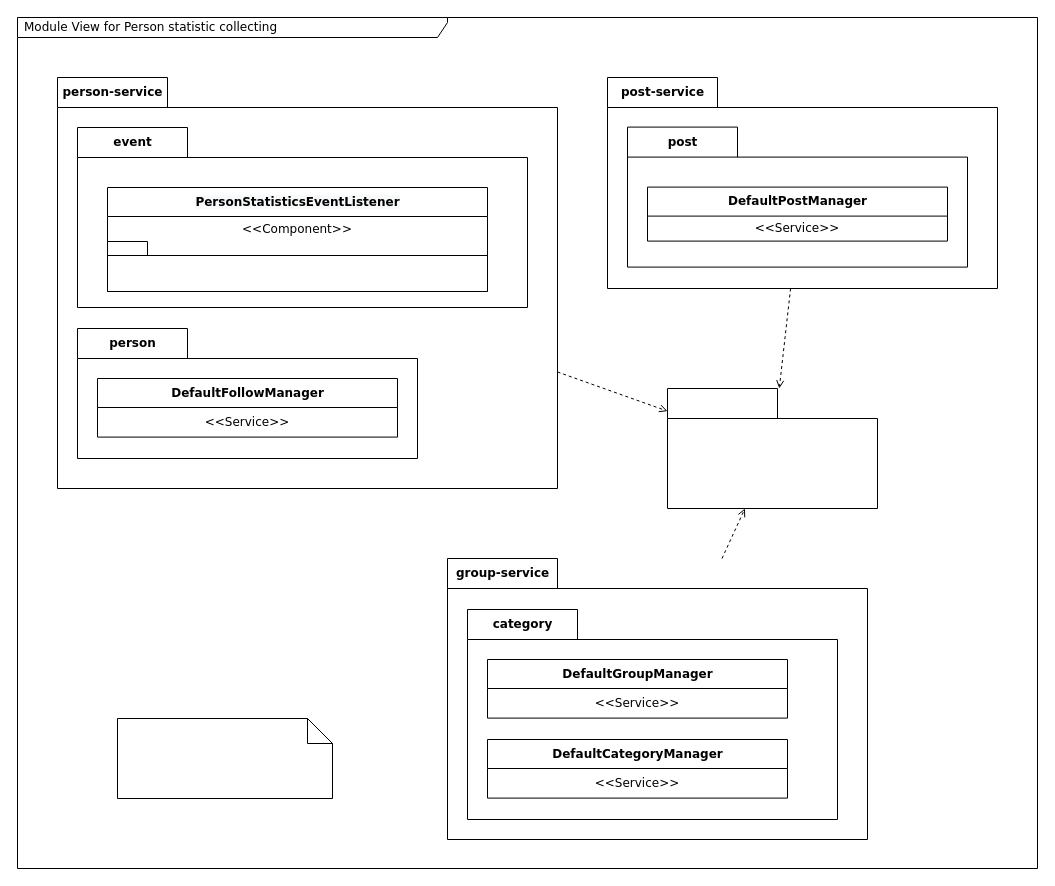
Some shapes in this 1055 by 886 pixel diagram are drawn without their labels. The shapes that lost their labels are listed below. From the top down, each one's centre as x and y in pixels, then its label:
(297,266): <<RabbitListener>> personStatisticsEvent
(772,448): common
(224,758): Key: UML
